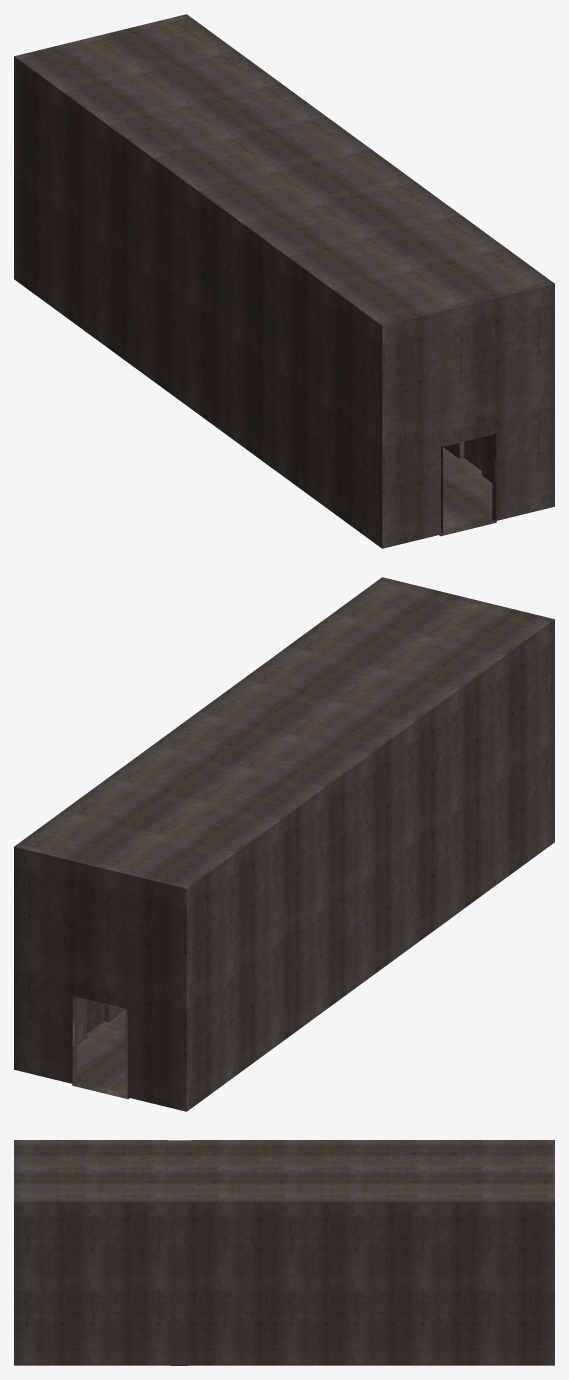
File: HallwayTall_DoorType_A.glb
3 renders of one model, top to bottom at view 1: azimuth 30°, elevation 25°; view 2: azimuth 150°, elevation 25°; view 3: azimuth 270°, elevation 25°, orthographic. The views are drawn at different scales.
Parts seen in each view (by area): view 1: geo_0; view 2: geo_0; view 3: geo_0.
Part boxes in pixels (<box>): geo_0: <box>14,14,554,548</box>; geo_0: <box>14,577,554,1111</box>; geo_0: <box>14,1140,554,1365</box>.
Bounding box in the file's own units: 15.4 × 19.15 × 56.89.
2 materials, 2 textured.
